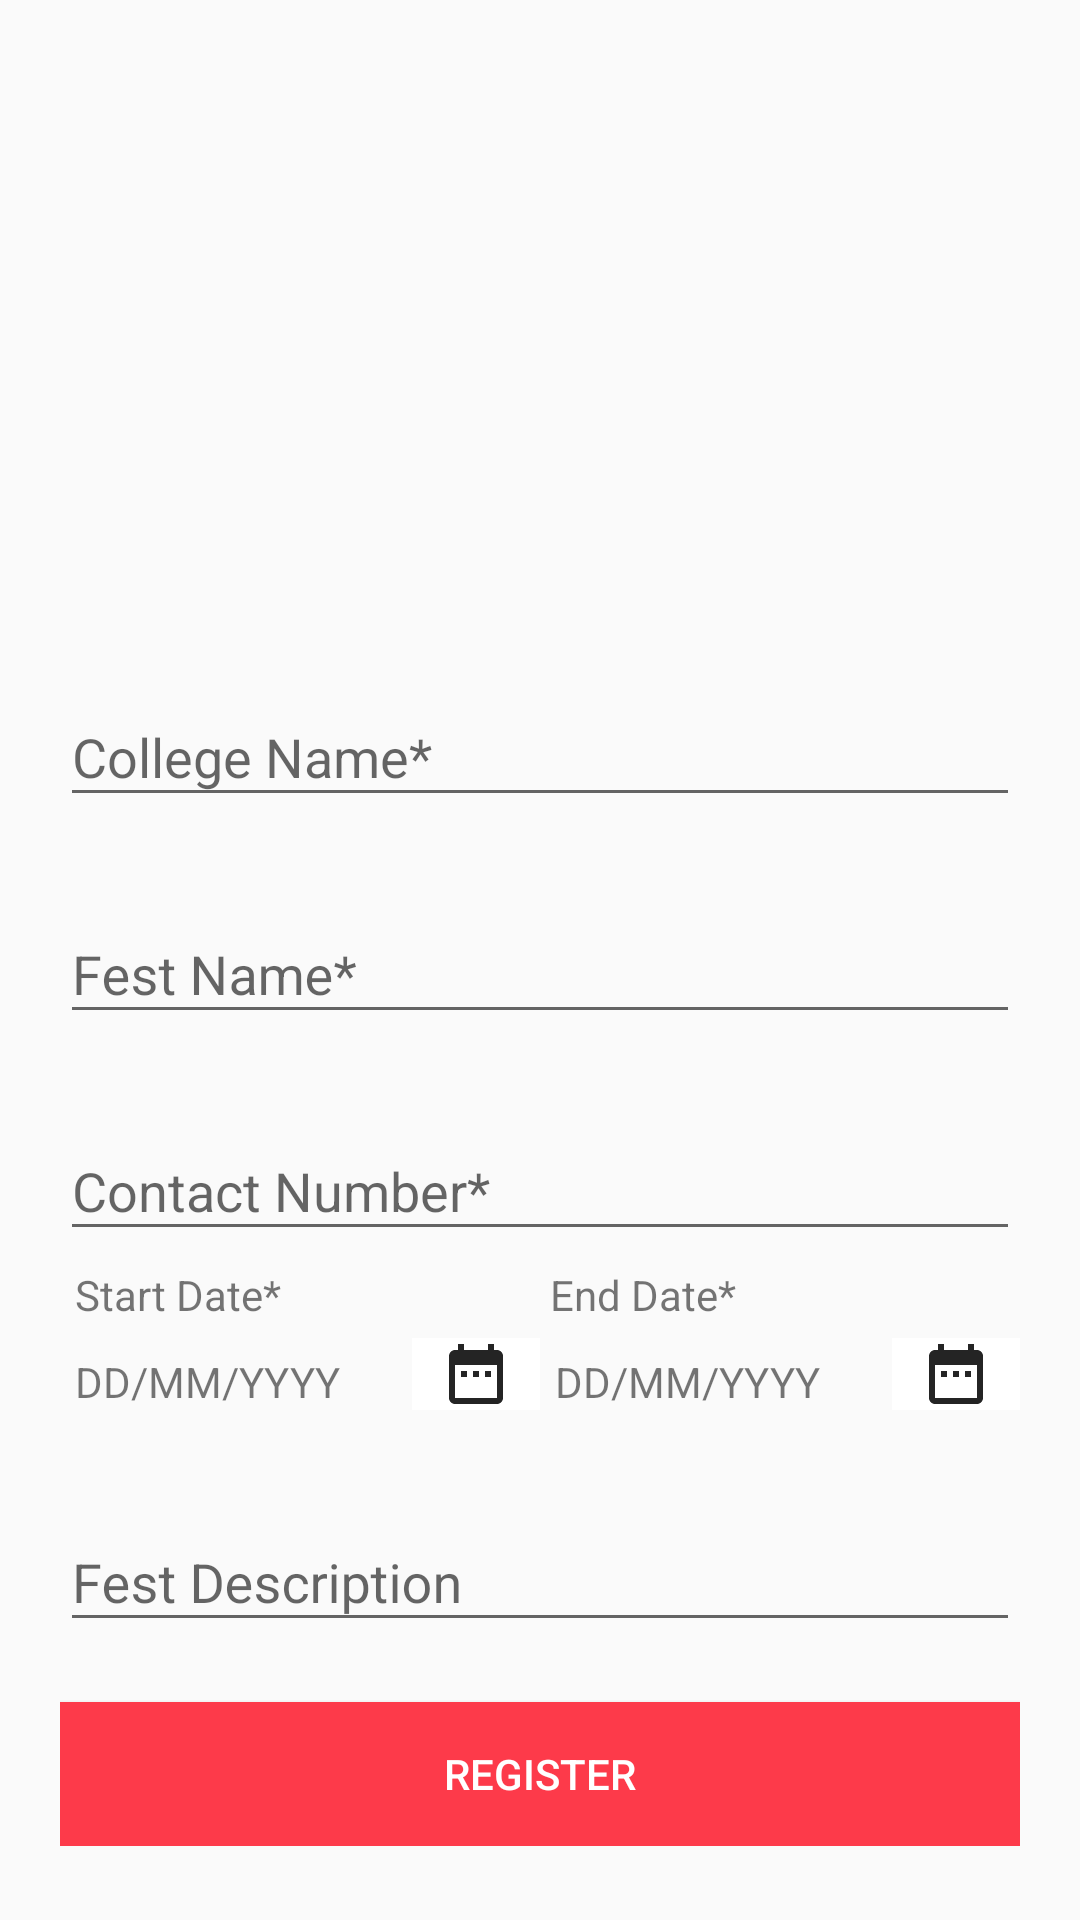

Where to tap for icons on this 1080 x 1920 app screen, as point (x, y):
date range: point (476, 1374), point (956, 1374)
